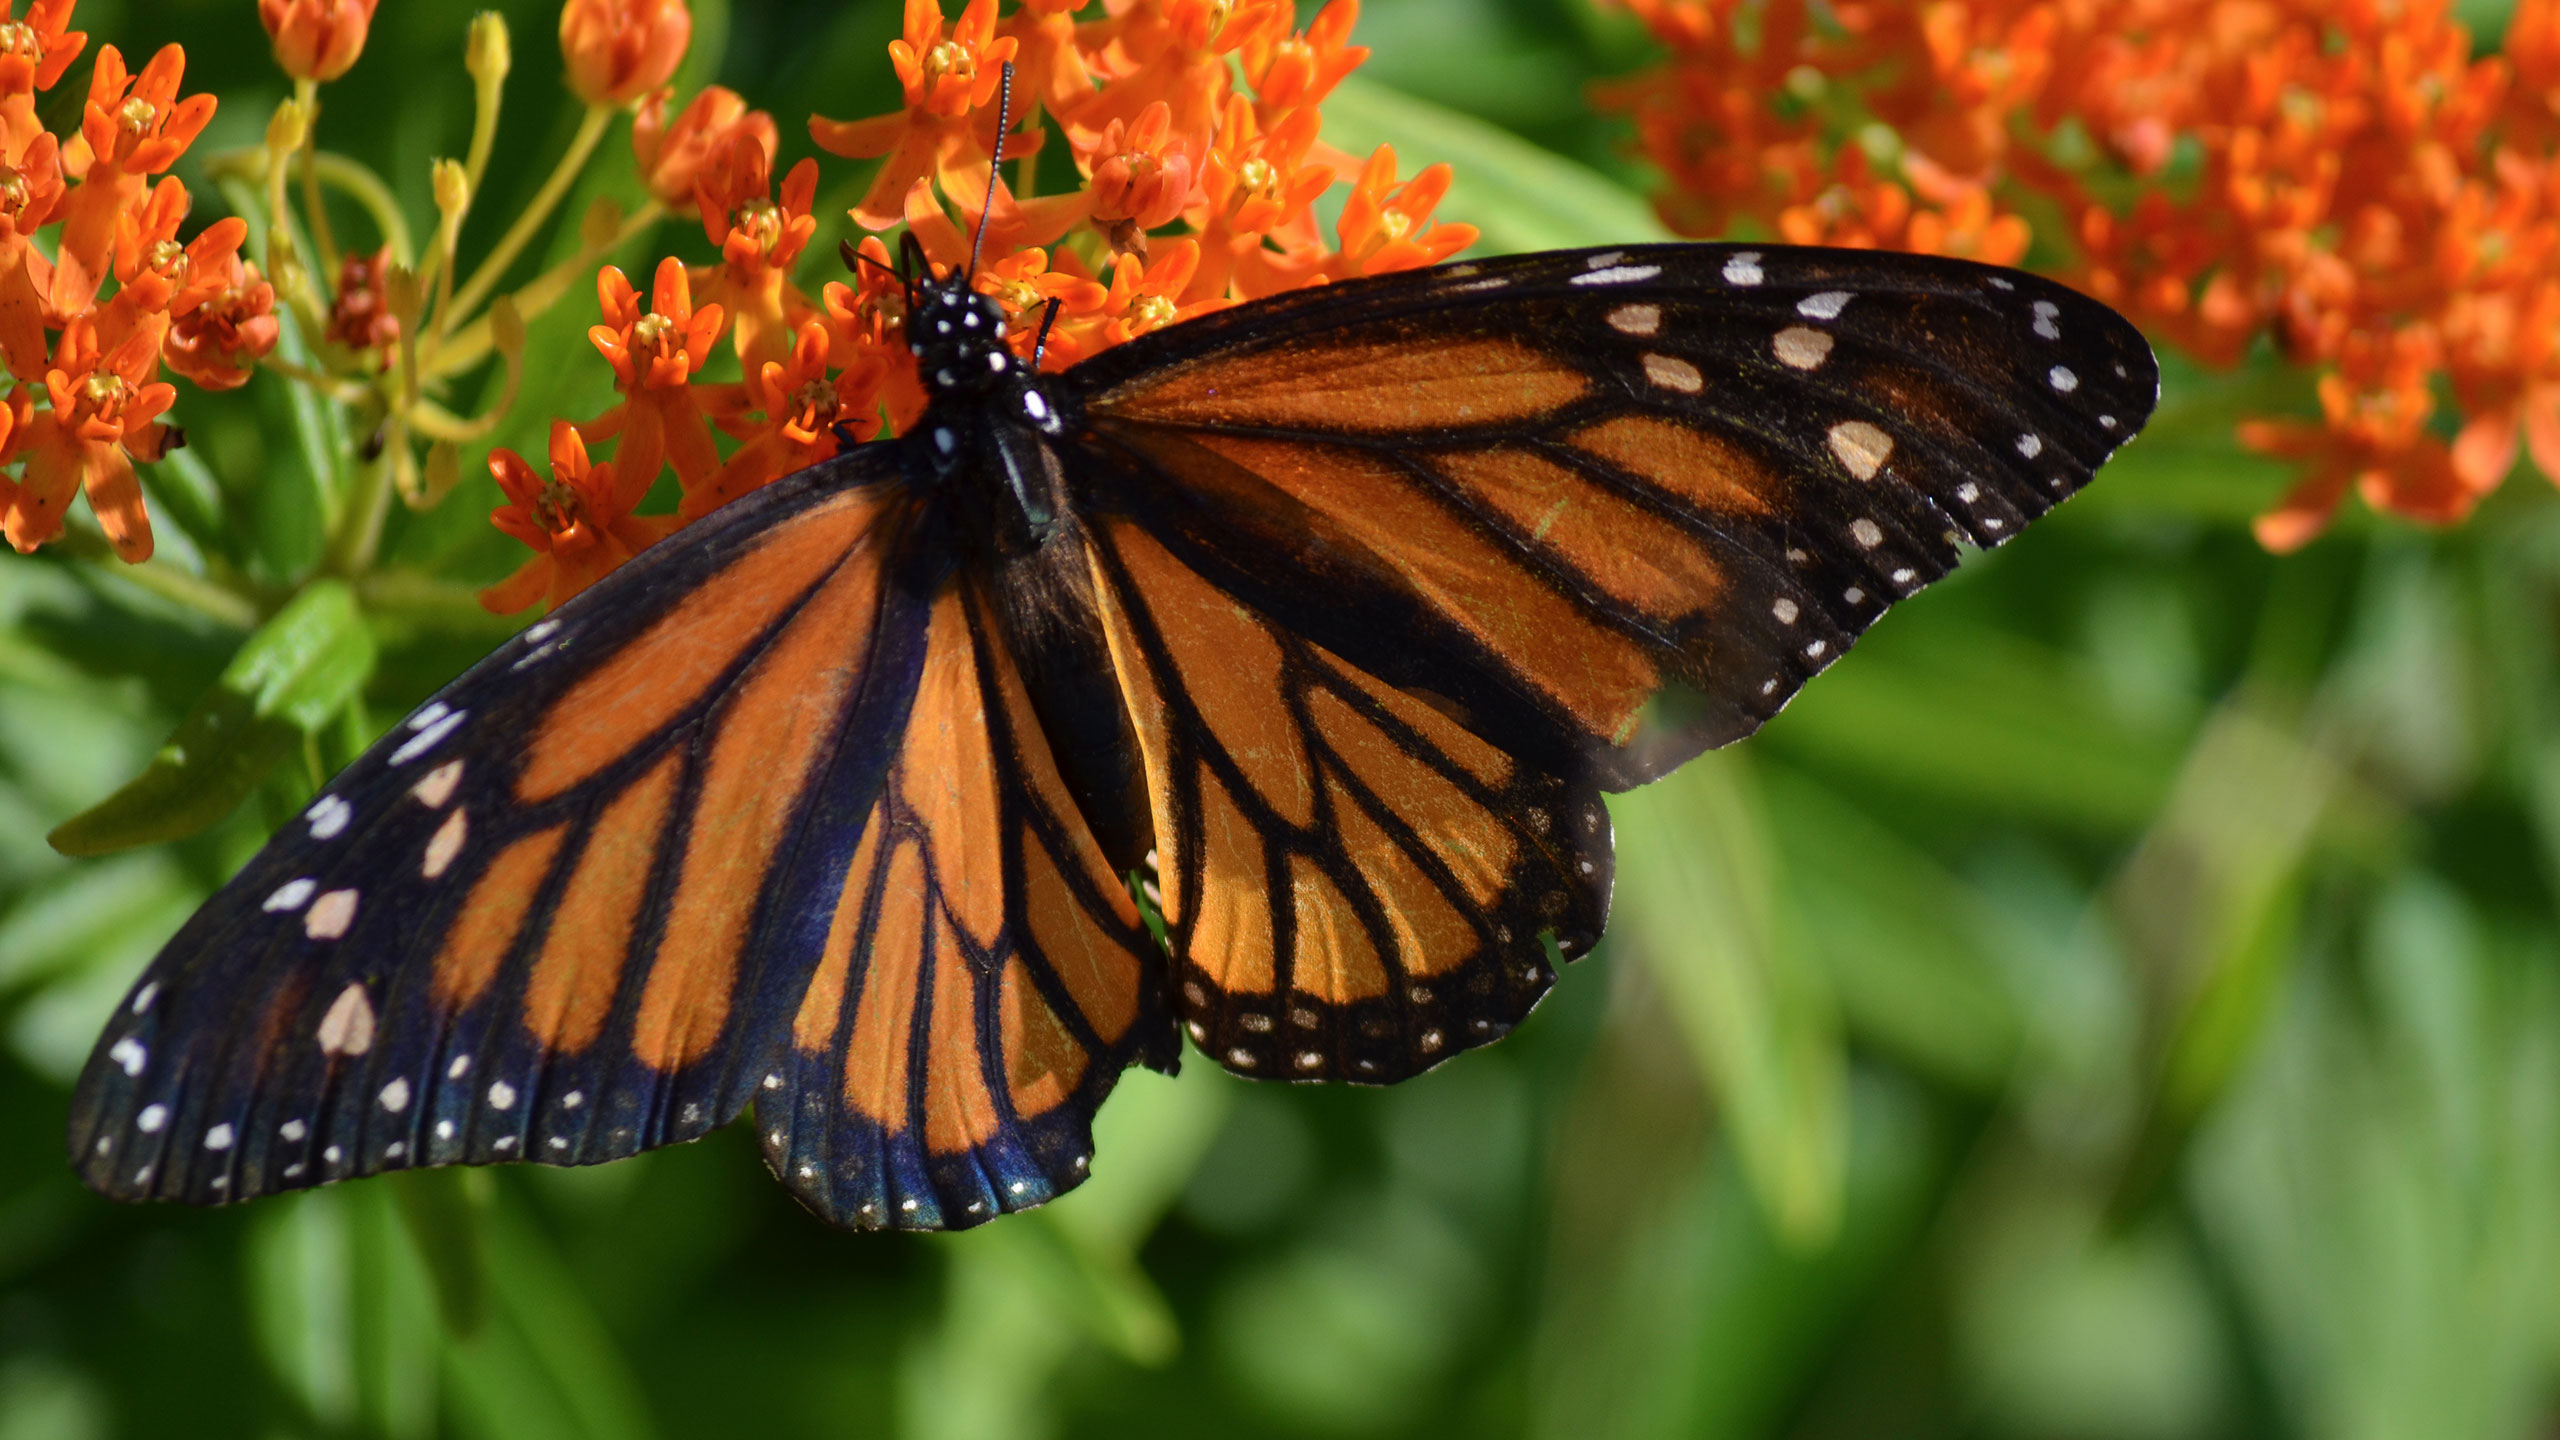Butterfly: (100, 70, 2164, 1282)
